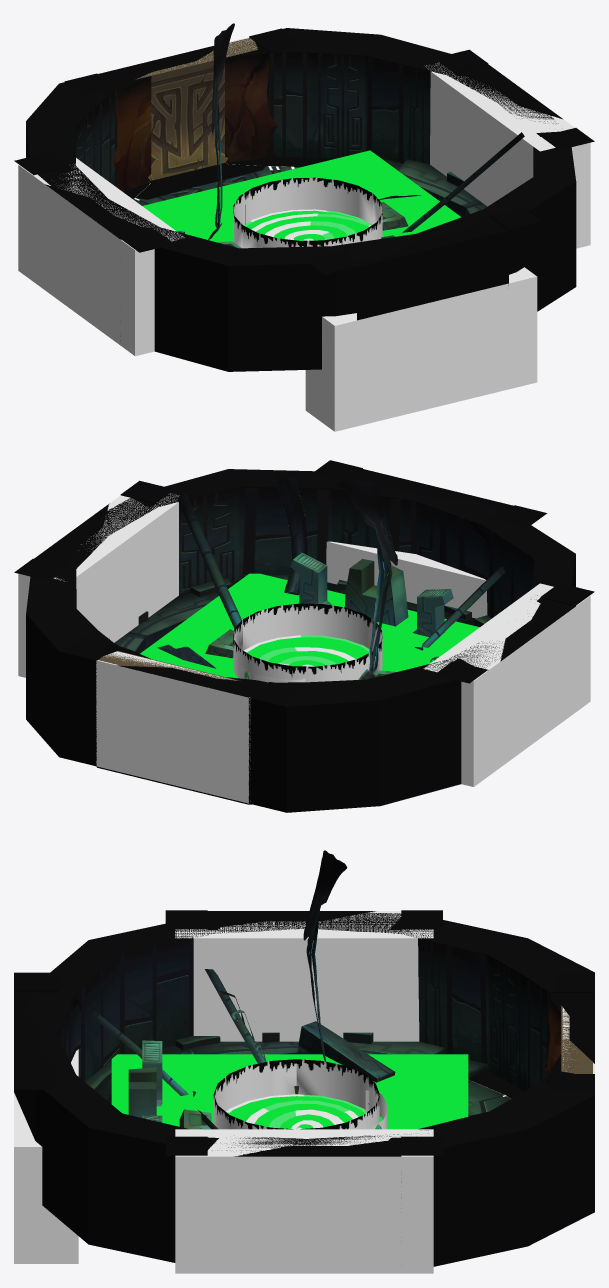
Rendered from Dungeon_011_WarpRoom_008.fbx.
The picture shows the model from 3 angles, top to bottom: view 1: azimuth 30°, elevation 25°; view 2: azimuth 150°, elevation 25°; view 3: azimuth 270°, elevation 25°; orthographic projection. The views are drawn at different scales.
Visible parts, largest first — view 1: Dun_011_WarpRoom_002_wall, DoorWay_NavMask (4), Dun_011_Door_002 (×4), DoorWay_NavMask (3), DoorWay_NavMask (2), Dun_011_Door_002_old, EF_Dun_Portal_WarpRoom, Dun_011_Door_003_WarpRoom, EF_Dun_Portal_WarpRoom5, Dun_011_WarpRoom_002_object01, Dun_011_WarpRoom_002_ground, Dun_011_Door_002_shadow (+2 smaller); view 2: Dun_011_WarpRoom_002_wall, DoorWay_NavMask (3), DoorWay_NavMask (1), Dun_011_WarpRoom_002_object01, DoorWay_NavMask (2), EF_Dun_Portal_WarpRoom, Dun_011_Door_002 (×4), EF_Dun_Portal_WarpRoom5, DoorWay_NavMask (4), Dun_011_WarpRoom_002_ground, Dun_011_Door_002_old, EF_Dun_Portal_WarpRoom6 (+1 smaller); view 3: Dun_011_WarpRoom_002_wall, DoorWay_NavMask (2), DoorWay_NavMask (3), EF_Dun_Portal_WarpRoom, Dun_011_Door_002 (×4), Dun_011_WarpRoom_002_object01, EF_Dun_Portal_WarpRoom5, DoorWay_NavMask (4), Dun_011_WarpRoom_002_ground, Dun_011_Door_002_old, EF_Dun_Portal_WarpRoom6, Dun_011_Door_003_WarpRoom (+1 smaller).
Boxes of the visible parts, bbox=[...] form: Dun_011_WarpRoom_002_wall: bbox=[26, 28, 576, 371]; DoorWay_NavMask (4): bbox=[305, 267, 537, 431]; Dun_011_Door_002 (×4): bbox=[14, 37, 594, 340]; DoorWay_NavMask (3): bbox=[18, 158, 184, 356]; DoorWay_NavMask (2): bbox=[425, 62, 590, 248]; Dun_011_Door_002_old: bbox=[64, 28, 301, 190]; EF_Dun_Portal_WarpRoom: bbox=[142, 150, 460, 242]; Dun_011_Door_003_WarpRoom: bbox=[135, 38, 257, 180]; EF_Dun_Portal_WarpRoom5: bbox=[233, 177, 382, 248]; Dun_011_WarpRoom_002_object01: bbox=[176, 23, 524, 248]; Dun_011_WarpRoom_002_ground: bbox=[133, 158, 487, 217]; Dun_011_Door_002_shadow: bbox=[136, 162, 265, 199]; Dun_011_WarpRoom_002_wall: bbox=[26, 469, 575, 812]; DoorWay_NavMask (3): bbox=[423, 583, 590, 786]; DoorWay_NavMask (1): bbox=[96, 651, 250, 803]; Dun_011_WarpRoom_002_object01: bbox=[157, 476, 505, 804]; DoorWay_NavMask (2): bbox=[18, 493, 179, 677]; EF_Dun_Portal_WarpRoom: bbox=[140, 573, 479, 678]; Dun_011_Door_002 (×4): bbox=[14, 460, 594, 804]; EF_Dun_Portal_WarpRoom5: bbox=[233, 603, 382, 682]; DoorWay_NavMask (4): bbox=[326, 541, 487, 618]; Dun_011_WarpRoom_002_ground: bbox=[96, 574, 491, 804]; Dun_011_Door_002_old: bbox=[65, 637, 301, 767]; EF_Dun_Portal_WarpRoom6: bbox=[243, 635, 369, 666]; Dun_011_WarpRoom_002_wall: bbox=[14, 912, 594, 1266]; DoorWay_NavMask (2): bbox=[175, 1129, 433, 1273]; DoorWay_NavMask (3): bbox=[175, 911, 433, 1041]; EF_Dun_Portal_WarpRoom: bbox=[111, 1054, 468, 1129]; Dun_011_Door_002 (×4): bbox=[14, 910, 594, 1182]; Dun_011_WarpRoom_002_object01: bbox=[90, 850, 395, 1129]; EF_Dun_Portal_WarpRoom5: bbox=[213, 1059, 379, 1129]; DoorWay_NavMask (4): bbox=[14, 1049, 78, 1263]; Dun_011_WarpRoom_002_ground: bbox=[85, 1032, 510, 1116]; Dun_011_Door_002_old: bbox=[546, 974, 594, 1091]; EF_Dun_Portal_WarpRoom6: bbox=[226, 1094, 365, 1129]; Dun_011_Door_003_WarpRoom: bbox=[561, 1005, 592, 1073].
Size of what is drawn, in the model's own units: 9 by 5.5 by 9.
